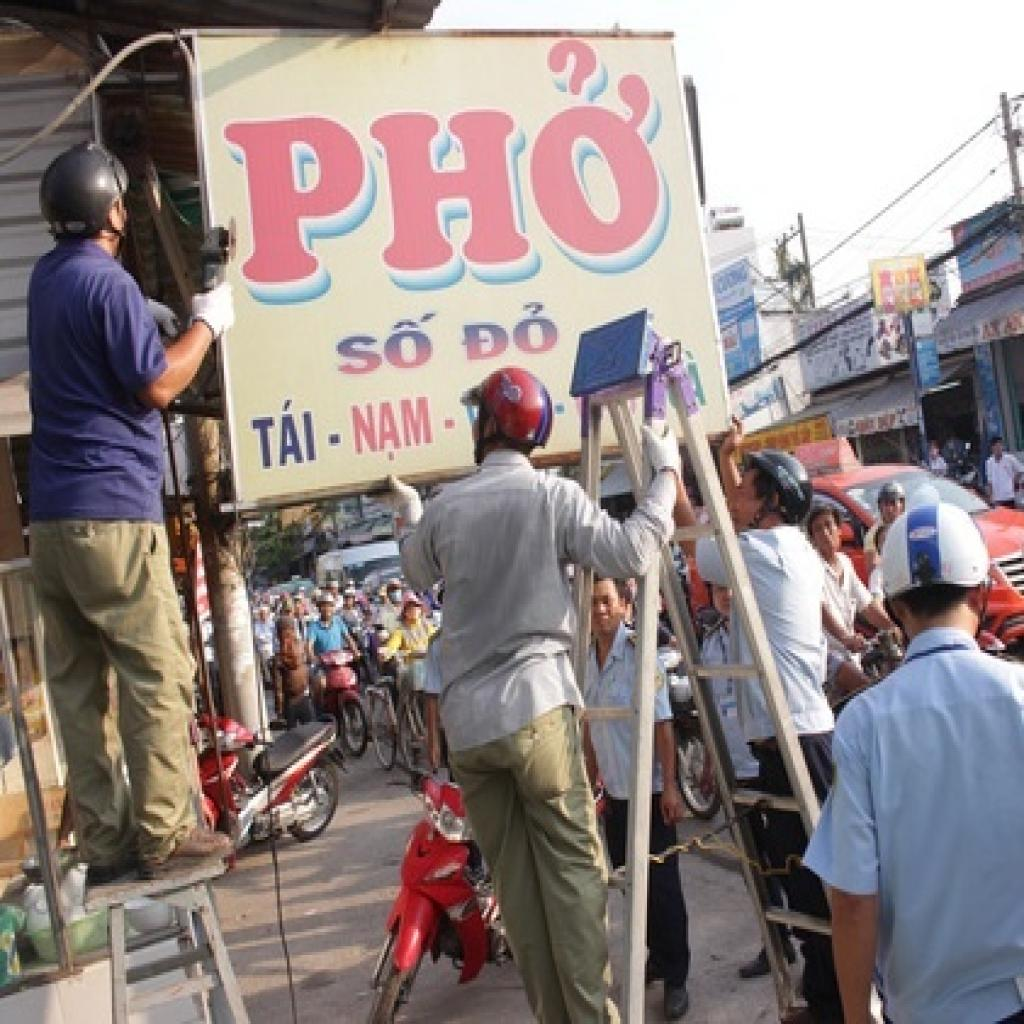text: (207, 23, 681, 319), (326, 305, 447, 388), (343, 386, 443, 474), (458, 288, 564, 371), (241, 391, 321, 478), (980, 314, 1005, 345), (1004, 307, 1024, 342), (323, 426, 348, 452), (440, 412, 462, 438)
